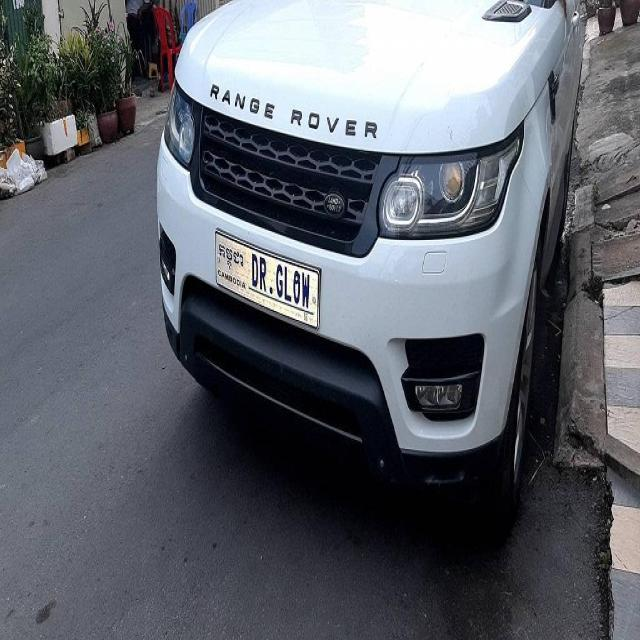Cambodia: (219, 239, 246, 270)
